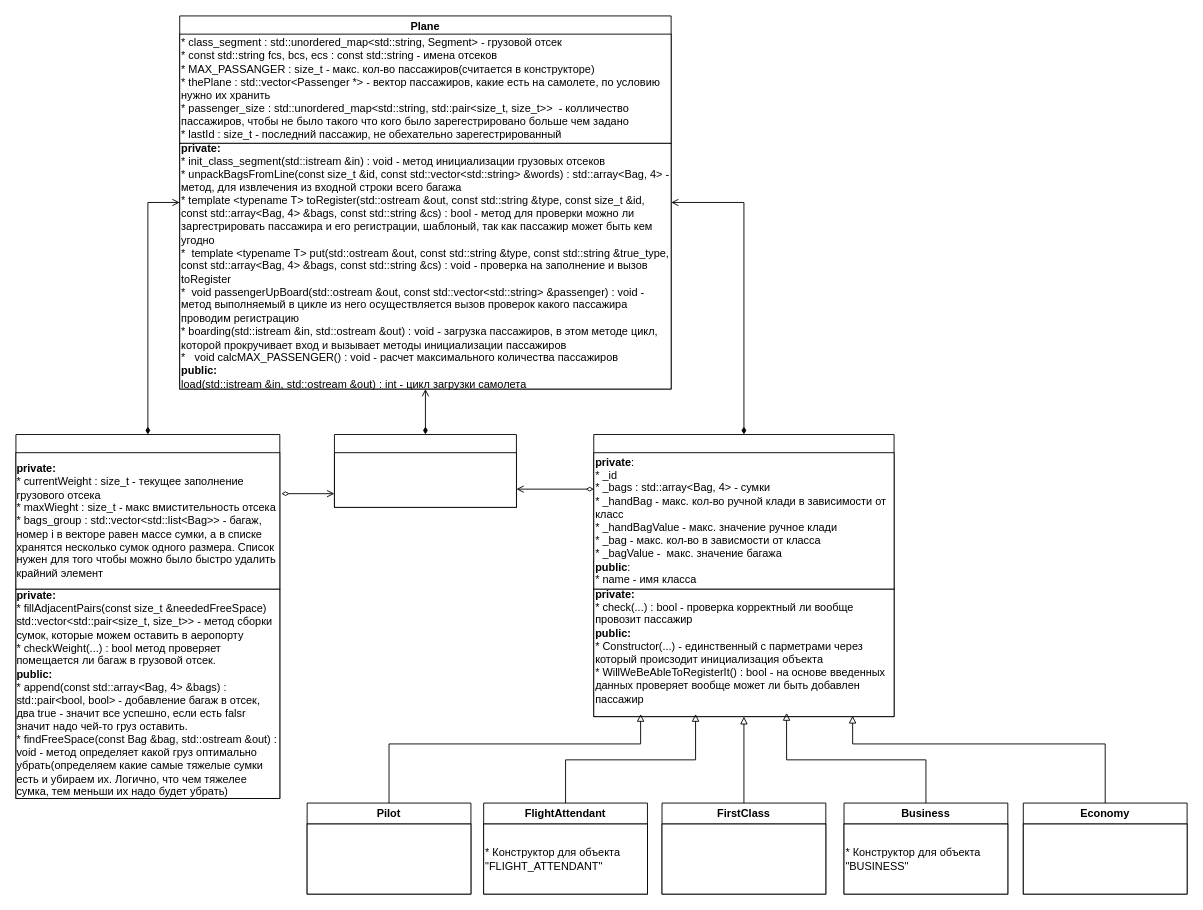
Image size: 1203x910. Some labels were removed from this diagram. The box of each missing label's shape, as (x1, y1, x2, y2) in pixels:
* Конструктор для объекта "ECONOMY": (1022, 823, 1187, 894)
* Конструктор для объекта "FIRST_CLASS": (661, 823, 826, 894)
* Конструктор для объекта "PILOT": (306, 823, 471, 894)
Bag: (334, 434, 516, 507)
Passenger: (593, 434, 894, 717)
public: * weight : size_t - вес * passengerId : size_t - id: (334, 452, 516, 507)
Segment: (15, 434, 280, 799)
